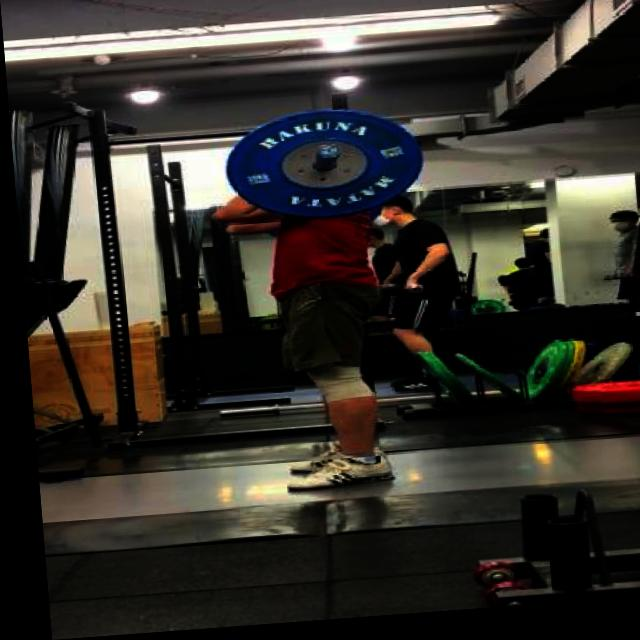barbell: (213, 104, 430, 232)
